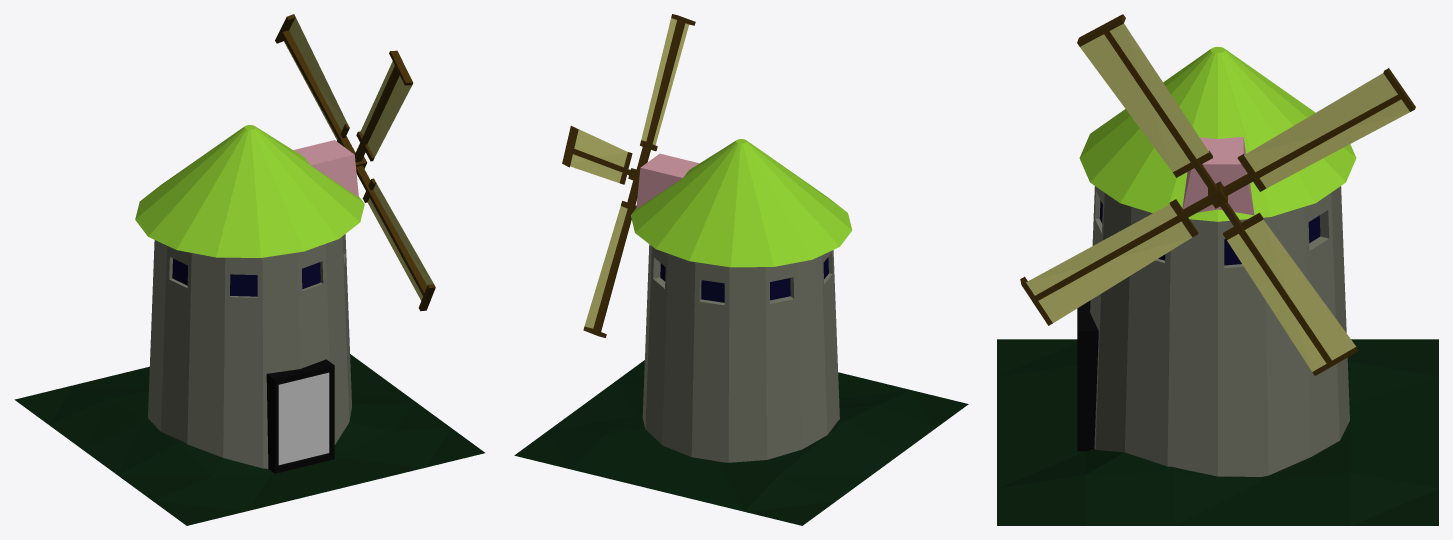
File: mill.obj
3 renders of one model, left to right at view 1: azimuth 30°, elevation 25°; view 2: azimuth 150°, elevation 25°; view 3: azimuth 270°, elevation 25°, orthographic. The views are drawn at different scales.
Parts seen in each view (by area): view 1: WindmillBody, Base, Sails, Door, TopBox; view 2: WindmillBody, Base, Sails, TopBox; view 3: WindmillBody, Base, Sails, TopBox, Door.
Part boxes in pixels (x1,y1,x2,y2): WindmillBody: [135, 125, 364, 468]; Base: [14, 354, 484, 525]; Sails: [275, 14, 435, 311]; Door: [266, 359, 334, 473]; TopBox: [293, 140, 358, 197]; WindmillBody: [630, 139, 852, 462]; Base: [514, 360, 968, 525]; Sails: [562, 14, 695, 337]; TopBox: [636, 153, 699, 208]; WindmillBody: [1079, 47, 1356, 476]; Base: [997, 339, 1438, 525]; Sails: [1020, 14, 1415, 375]; TopBox: [1182, 136, 1254, 215]; Door: [1077, 300, 1098, 451].
Bounding box in the file's own units: 10 × 12.11 × 10.
